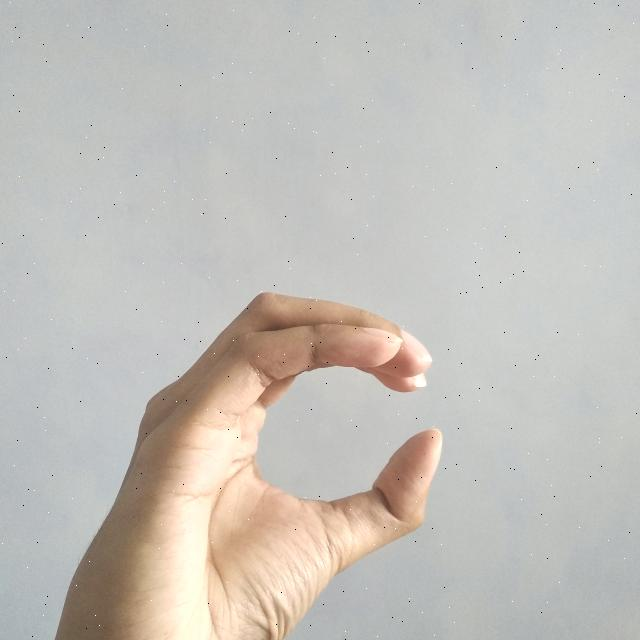C: (56, 289, 447, 640)
